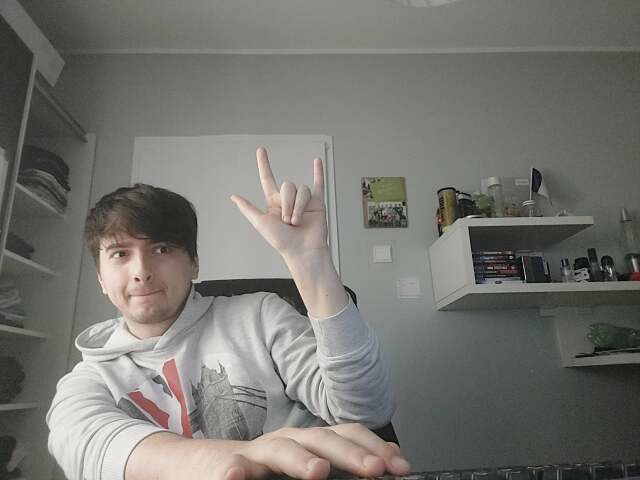love_you: (231, 147, 327, 251)
